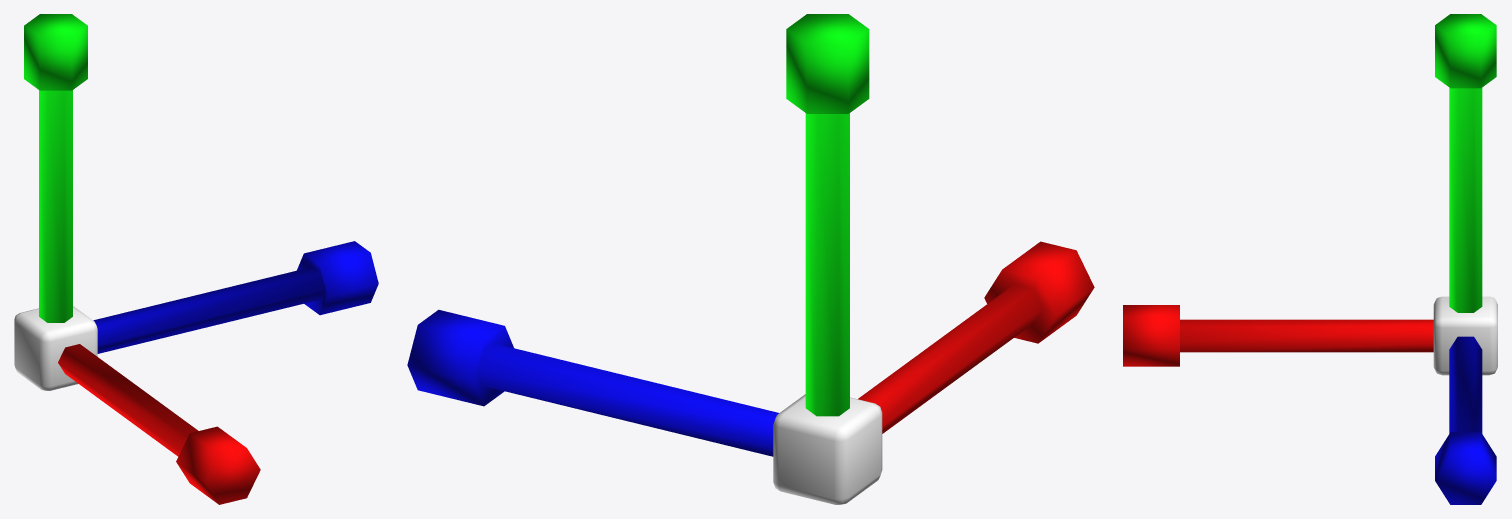
File: ScaleArrows.fbx
The picture shows the model from 3 angles, left to right: view 1: azimuth 30°, elevation 25°; view 2: azimuth 150°, elevation 25°; view 3: azimuth 270°, elevation 25°; orthographic projection. The views are drawn at different scales.
Parts seen in each view (by area): view 1: Arrow1, Arrow2, Arrow3, Box; view 2: Arrow1, Arrow2, Arrow3, Box; view 3: Arrow3, Arrow1, Arrow2, Box.
Boxes of the visible parts, <box> form: Arrow1: <box>24,14,87,322</box>; Arrow2: <box>93,241,378,353</box>; Arrow3: <box>58,344,260,504</box>; Box: <box>14,306,97,390</box>; Arrow1: <box>786,14,869,416</box>; Arrow2: <box>407,309,778,456</box>; Arrow3: <box>858,241,1094,433</box>; Box: <box>773,394,882,504</box>; Arrow3: <box>1123,305,1433,366</box>; Arrow1: <box>1435,14,1496,312</box>; Arrow2: <box>1435,336,1496,504</box>; Box: <box>1433,296,1497,375</box>.
Bounding box in the file's own units: 229 × 229 × 229.
